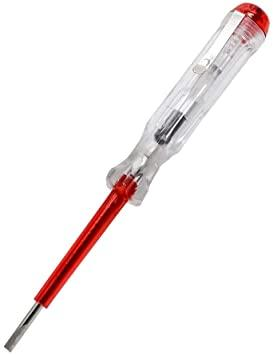Screwdriver: (0, 0, 273, 355)
